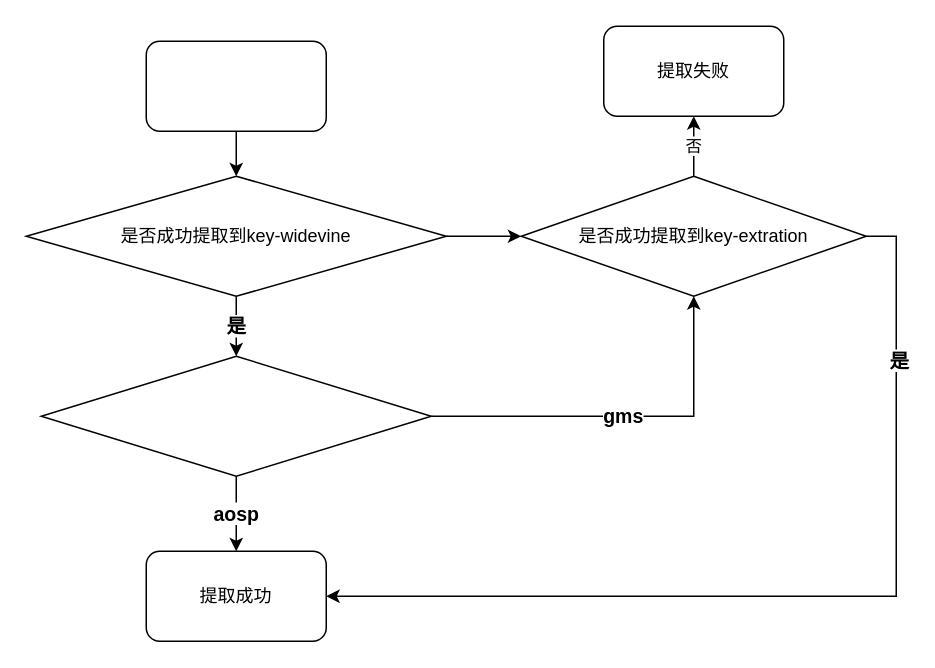
Some shapes in this 935 by 668 pixel diagram are drawn without their labels. Each missing label, with the centre of its shape:
"key-widevine提取到的信息是gms还是aosp" belongs at point (235, 415).
"开始" belongs at point (235, 85).
